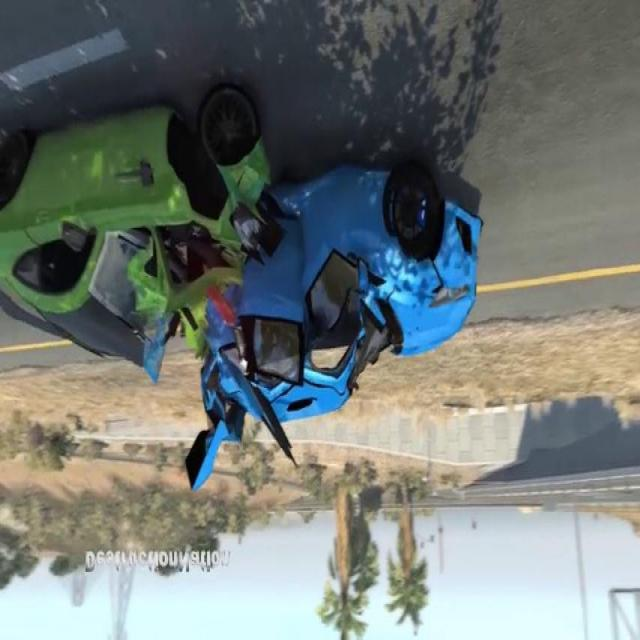severe: (0, 66, 487, 490)
